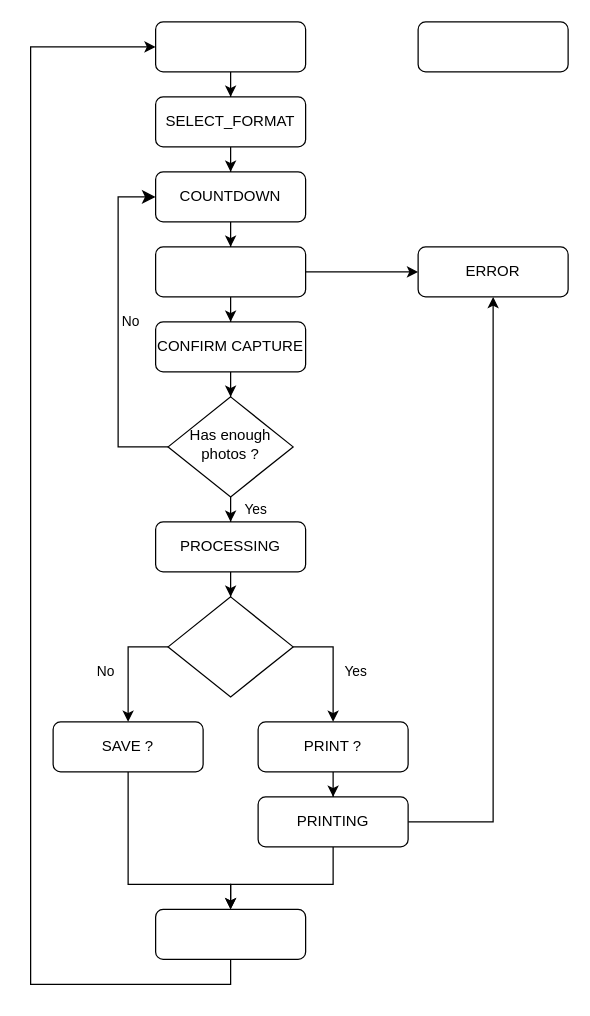
The diagram is 590 pixels wide and 1016 high, and some of its shapes have lost their labels. The shapes that lost their labels are listed below. From the top down, each one's centre as x and y in pixels, then its label:
(230,46): WAITING
(492,46): COPYING
(230,271): CHEESE
(230,646): Has printer ?
(230,933): SUCCESS
